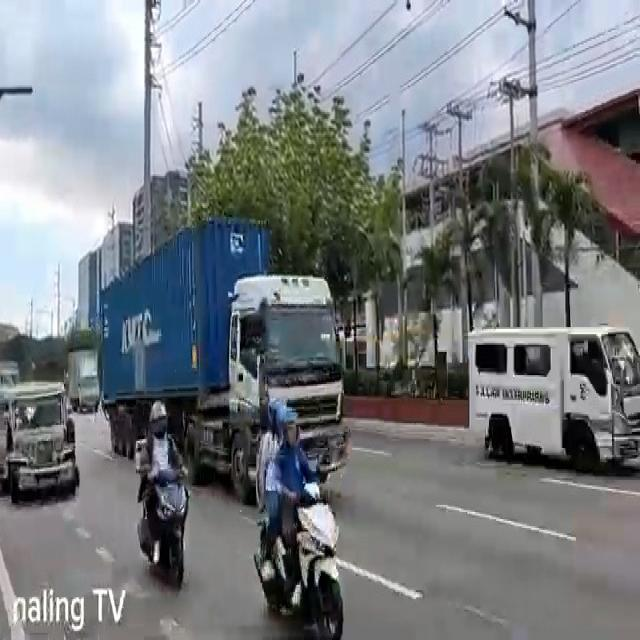jeepney: (6, 378, 78, 507)
motorcycle: (254, 402, 344, 640), (134, 401, 192, 594)
truck: (100, 209, 350, 504)
